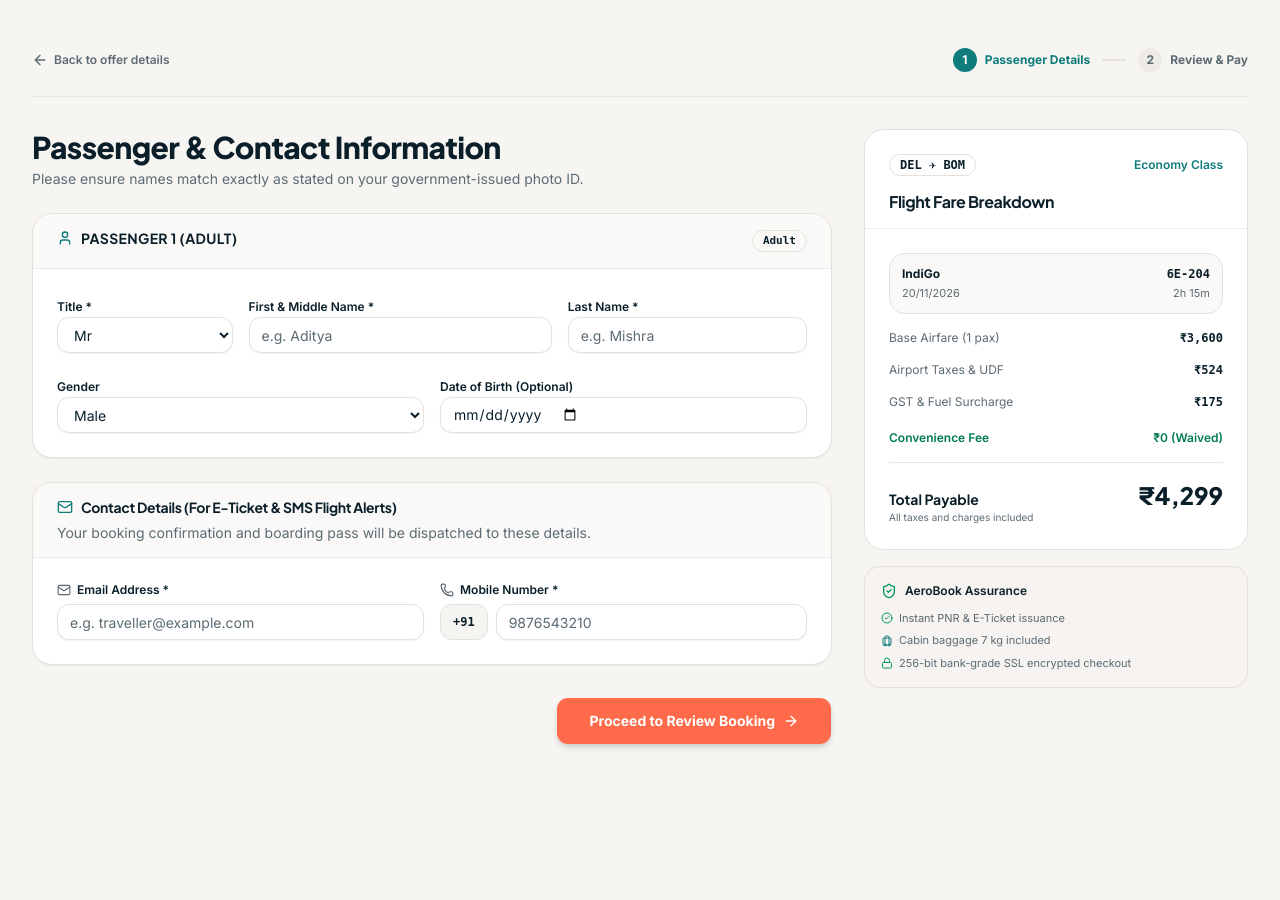
Test: Booking Pages › BookingFlowPage › validates empty fields on submission
Click the button "Proceed to Review Booking". click: (694, 721)
box: [556,697,832,745]
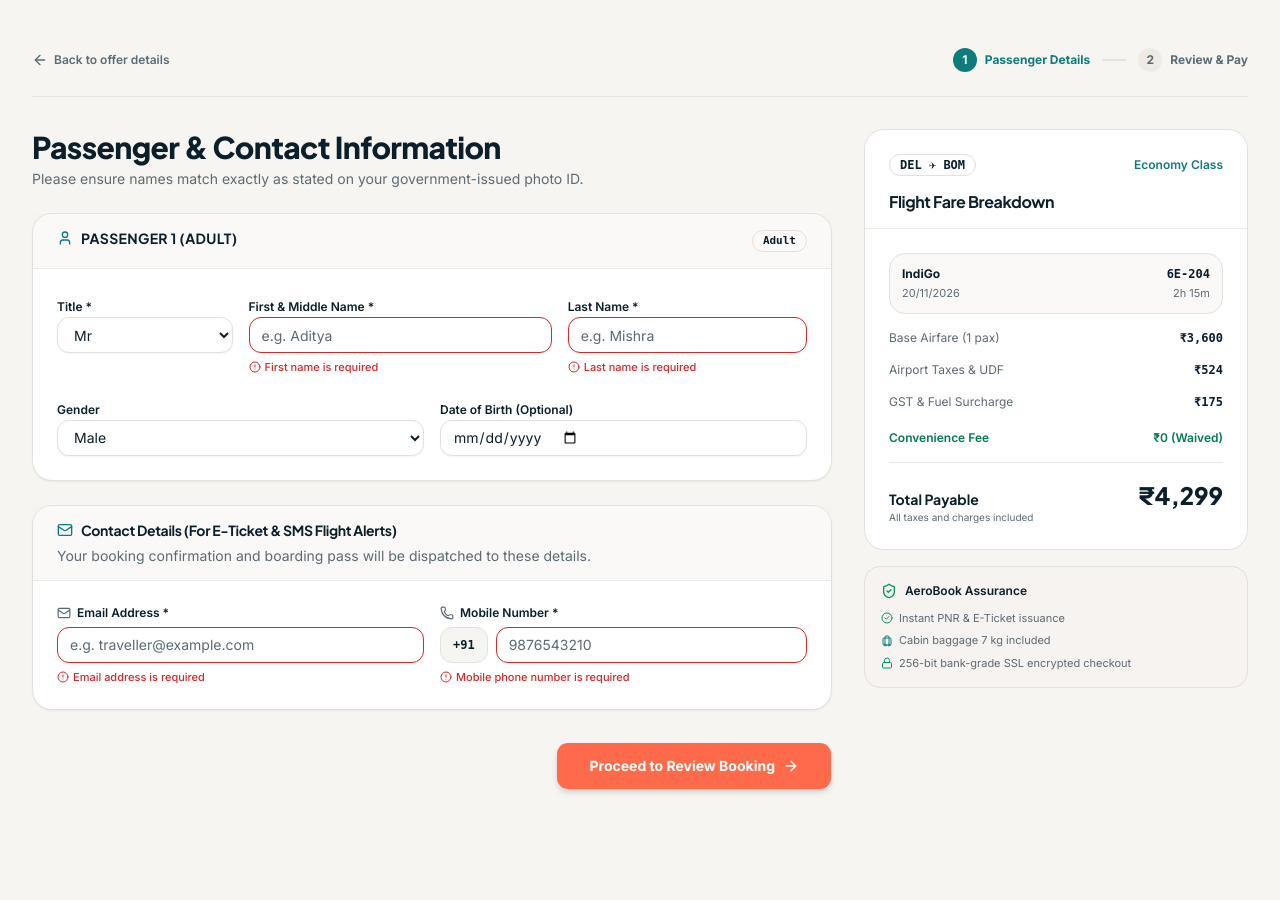
Expected: the text "First name is required" is shown, [264,359,378,376]
Expected: the text "Last name is required" is shown, [584,359,696,376]
Expected: the text "Email address is required" is shown, [73,668,205,685]
